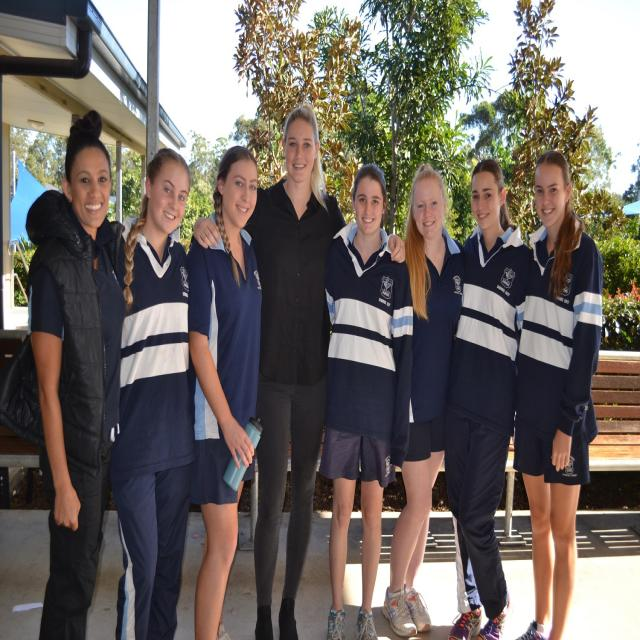body: (191, 102, 407, 639), (27, 109, 130, 639), (318, 160, 415, 640), (438, 158, 534, 640), (510, 148, 602, 640), (111, 146, 199, 640), (381, 162, 467, 638), (184, 143, 266, 640)
